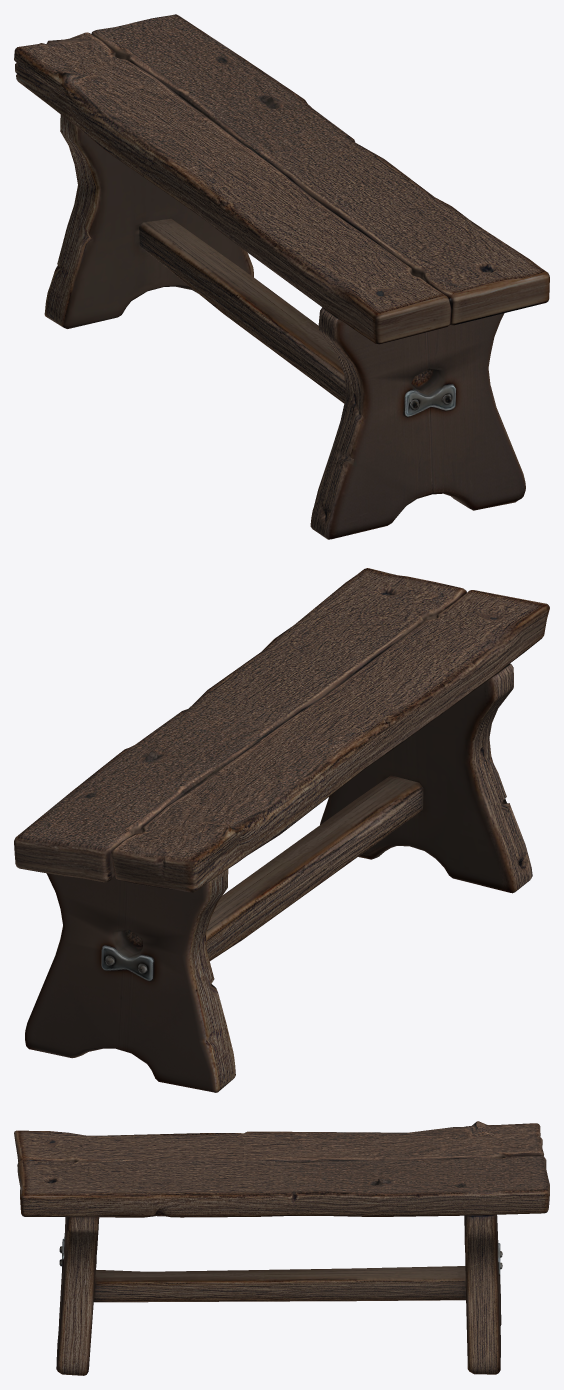
Rendered from panca.glb.
3 views of the same model, one above another, from view 1: azimuth 30°, elevation 25°; view 2: azimuth 150°, elevation 25°; view 3: azimuth 270°, elevation 25° (orthographic). The views are drawn at different scales.
Visible parts, largest first — view 1: panca; view 2: panca; view 3: panca.
Part boxes in pixels (x1=…): panca: x1=14, y1=14, x2=549, y2=539; panca: x1=14, y1=568, x2=549, y2=1092; panca: x1=14, y1=1121, x2=549, y2=1375.
Size of the model in its own units: 0.3247 by 0.397 by 0.9995.
Materials: 1 (1 with a texture image).
